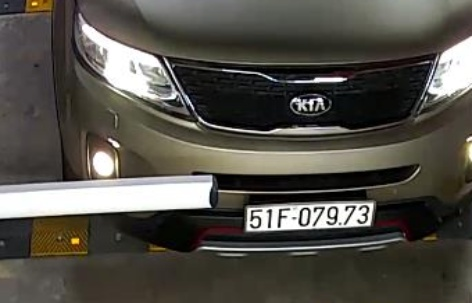plate: (242, 193, 375, 237)
